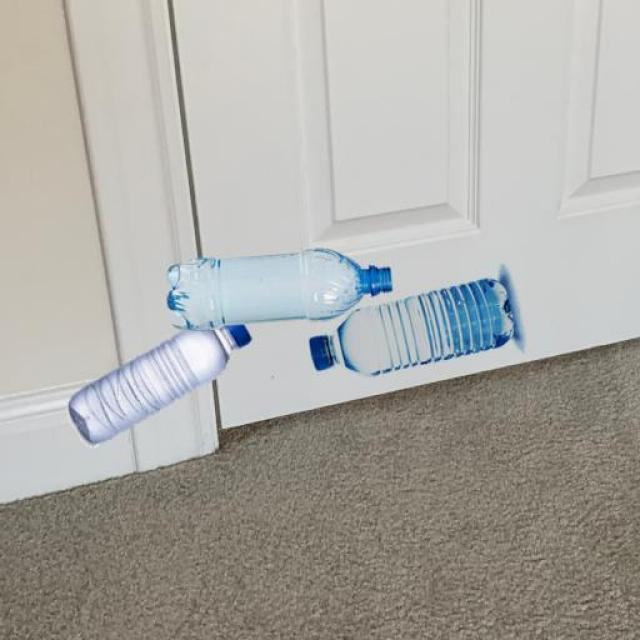bottle: (59, 317, 247, 451)
